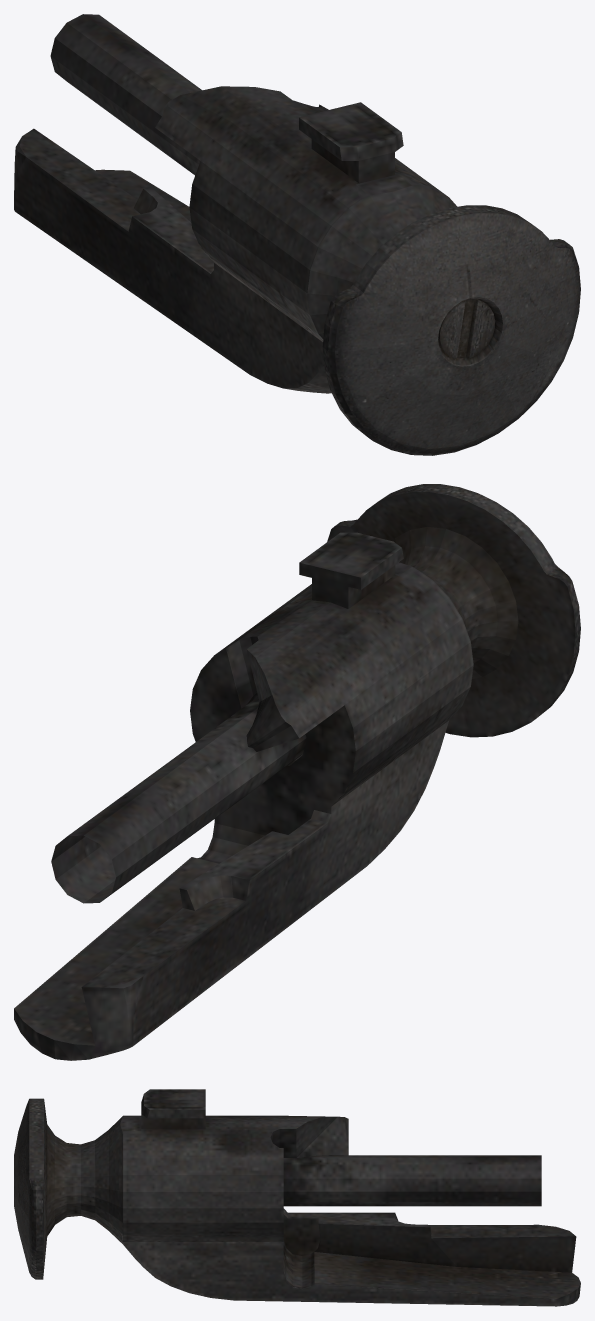
The picture shows the model from 3 angles, top to bottom: view 1: azimuth 30°, elevation 25°; view 2: azimuth 150°, elevation 25°; view 3: azimuth 270°, elevation 25°; orthographic projection. The views are drawn at different scales.
Visible parts, largest first — view 1: TW_5ae08f0a5acfc408fb1398a1_PZ_Import; view 2: TW_5ae08f0a5acfc408fb1398a1_PZ_Import; view 3: TW_5ae08f0a5acfc408fb1398a1_PZ_Import.
Part boxes in pixels (<box>): TW_5ae08f0a5acfc408fb1398a1_PZ_Import: <box>14,14,580,455</box>; TW_5ae08f0a5acfc408fb1398a1_PZ_Import: <box>14,484,580,1060</box>; TW_5ae08f0a5acfc408fb1398a1_PZ_Import: <box>14,1089,580,1306</box>.
Bounding box in the file's own units: 0.0147 × 0.0419 × 0.016.
1 material, 1 textured.
